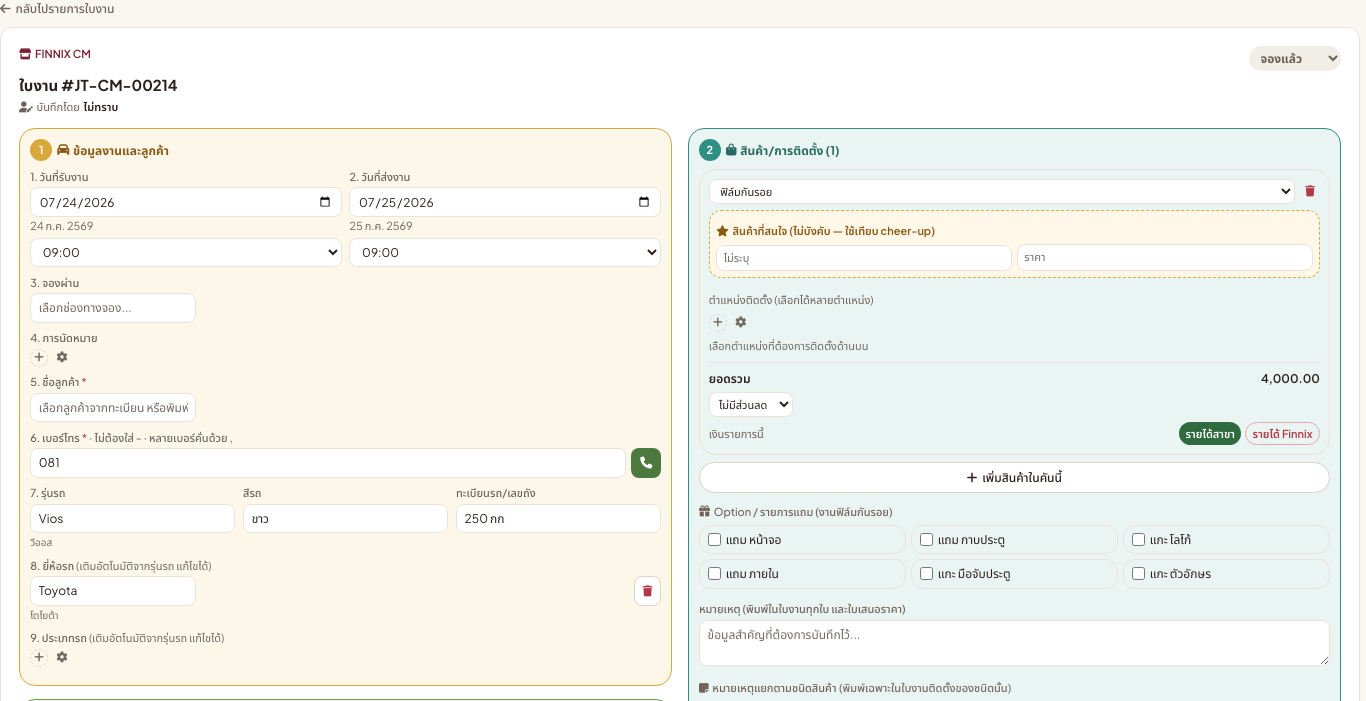
TicketDetail — ล็อกใบกำกับภาษีเมื่อรายได้ Finnix › locks the tax invoice once nothing on the job is the branch’s
Click the button with aria-label "รายได้ Finnix รายการที่ 1": (1283, 434) [1245,422,1320,445]
(page scrolled)
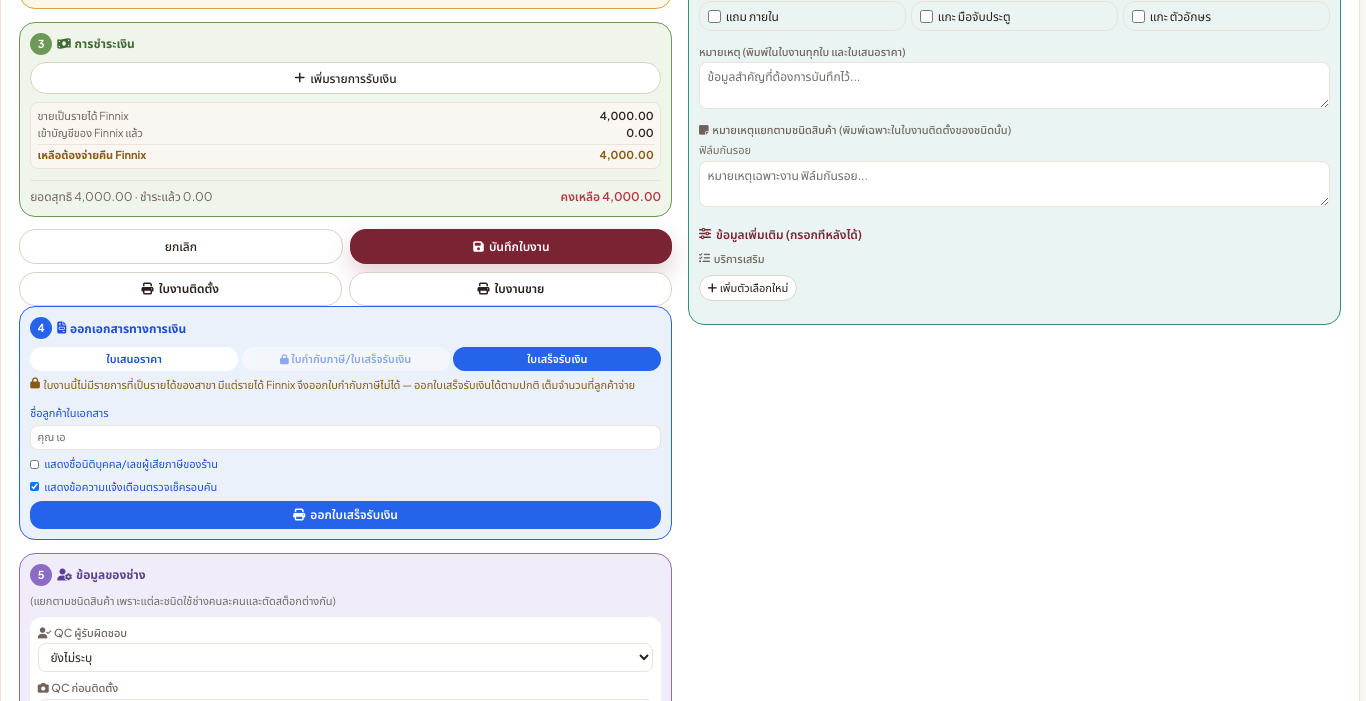
Now the text "จึงออกใบกำกับภาษีไม่ได้" is shown, box [44,378,635,391]
